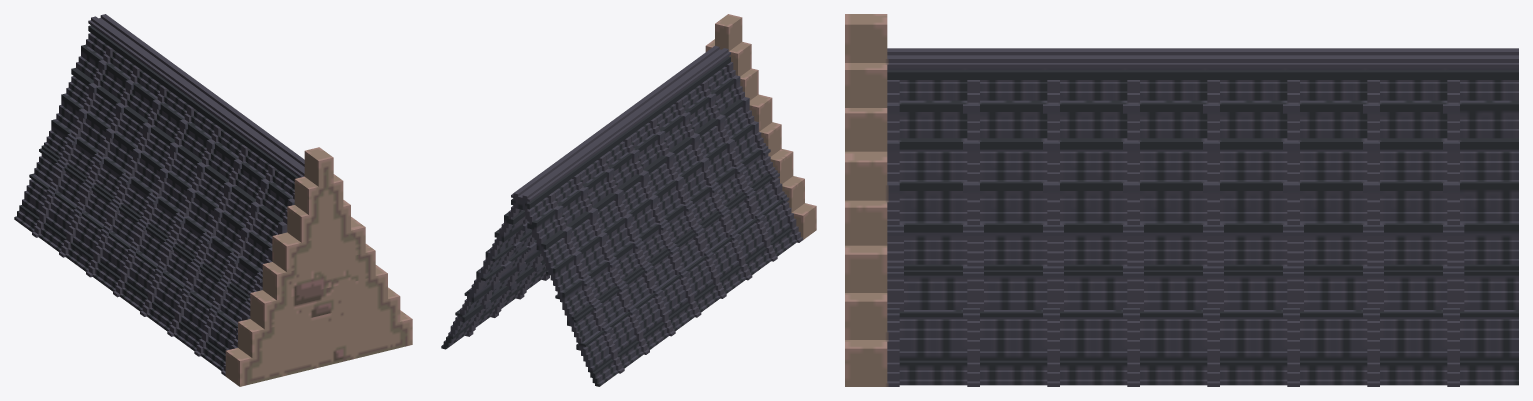
File: Rooftop-2.fbx
3 renders of one model, left to right at view 1: azimuth 30°, elevation 25°; view 2: azimuth 150°, elevation 25°; view 3: azimuth 270°, elevation 25°, orthographic. The views are drawn at different scales.
Visible parts, largest first — view 1: Rooftop-2; view 2: Rooftop-2; view 3: Rooftop-2.
Part boxes in pixels (<box>): Rooftop-2: <box>14,14,412,386</box>; Rooftop-2: <box>441,14,816,386</box>; Rooftop-2: <box>845,14,1518,386</box>.
Bounding box in the file's own units: 350 × 400 × 800.
